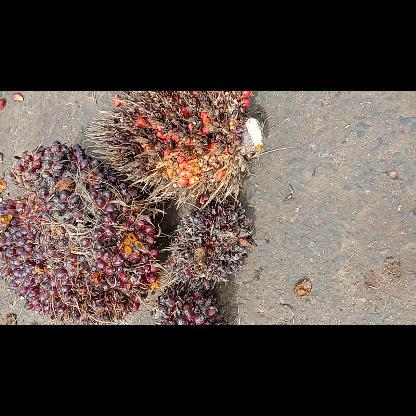TBS abnormal: (169, 198, 256, 288), (147, 276, 229, 324)
TBS masak: (1, 139, 161, 324)
Terlalu masak: (81, 90, 265, 209)
